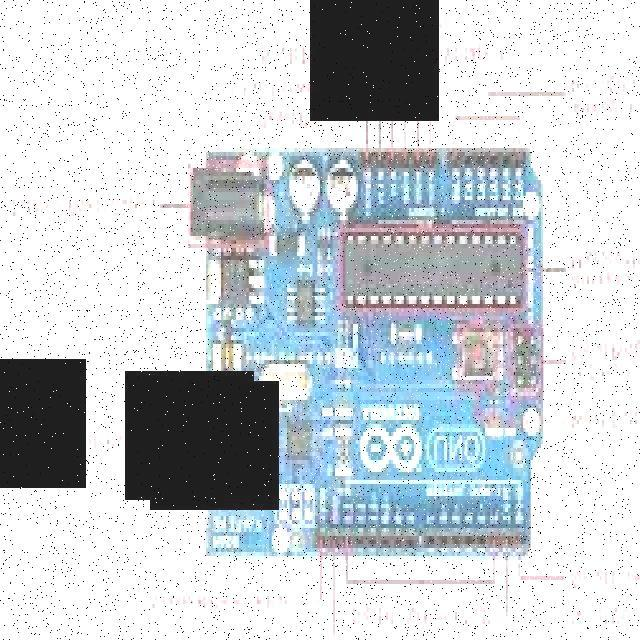arduino: (198, 155, 546, 549)
